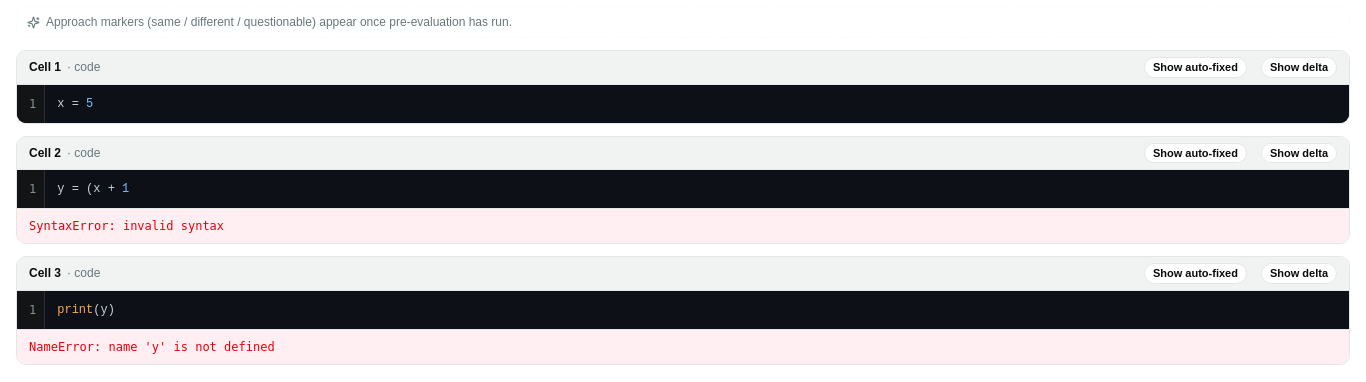
it: ExecutionOutput autofix view › toggles a cell to the fixed version with the loud strip + frame
Step 1. Click the button "Show auto-fixed" in the row of "Cell 2" → {"x": 1196, "y": 153}, box x1=1144 y1=142 x2=1247 y2=163
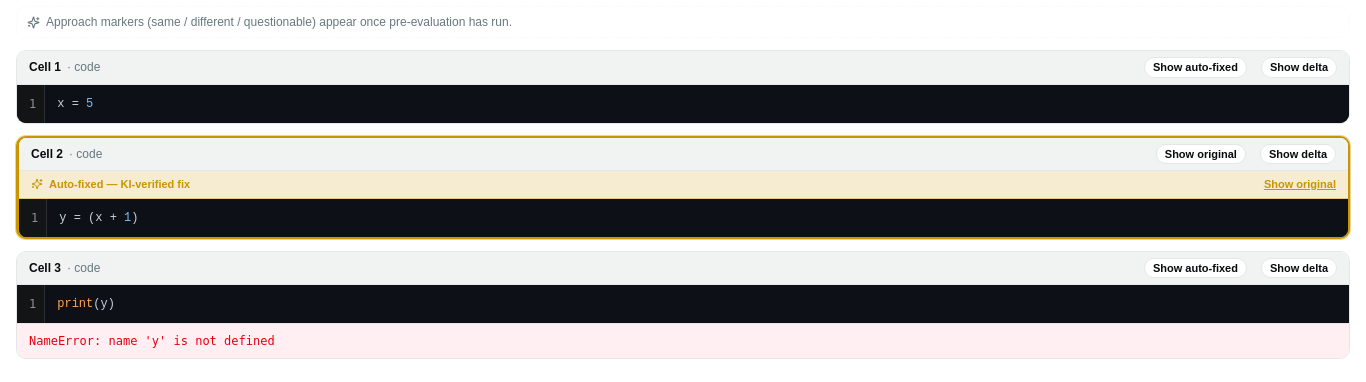
Now the text "SyntaxError: invalid syntax" is gone
Now the text "Auto-fixed — KI-verified fix" is shown, box x1=49 y1=176 x2=190 y2=192
